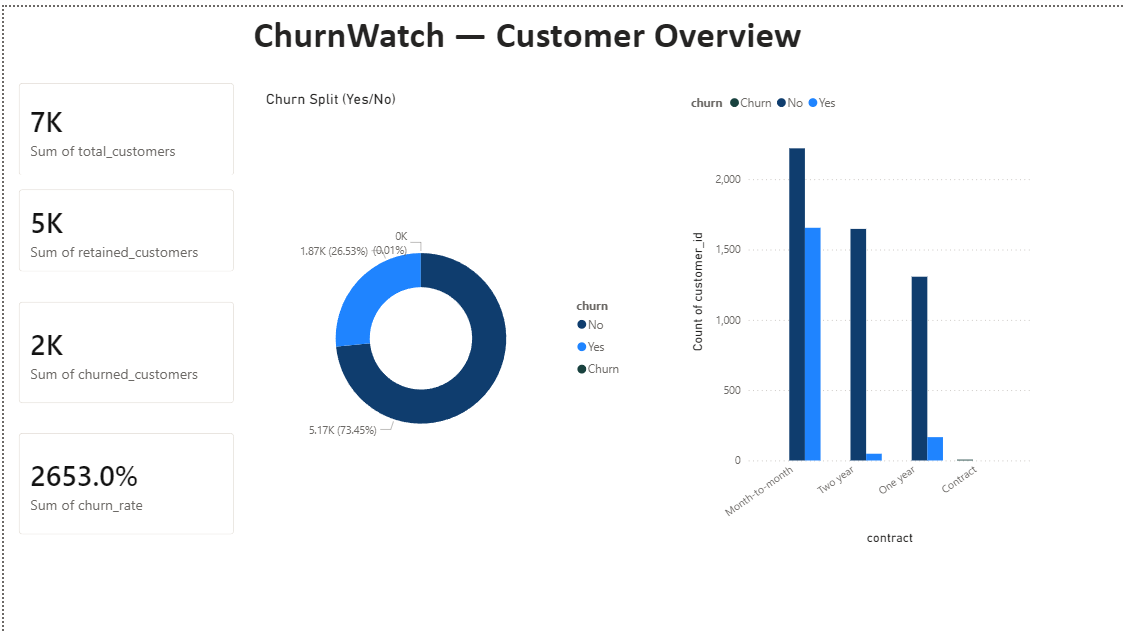

This screenshot's page, from the dashboard's own definition file:
{"tool":"powerbi","page":{"name":"Overview, Risk Analysis, Risk Drivers, Segmentation","canvas":[1280,720],"ordinal":0},"visuals":[{"type":"donutChart","title":"Churn Split (Yes/No)","fields":{"Category":["customers.churn"],"Y":["CountNonNull(customers.customer_id)"]},"box":[294.3,94.3,422.9,550],"z":0},{"type":"clusteredColumnChart","title":"Churn by Contract Type","fields":{"Category":["customers.contract"],"Y":["CountNonNull(customers.customer_id)"],"Series":["customers.churn"]},"box":[780,70,398.6,550],"z":1000},{"type":"cardVisual","fields":{"Data":["Sum(vw_churn_kpis.total_customers)"]},"box":[0,70,280,140],"z":2000},{"type":"cardVisual","fields":{"Data":["Sum(vw_churn_kpis.churned_customers)"]},"box":[0,320,280,150],"z":3000},{"type":"cardVisual","fields":{"Data":["Sum(vw_churn_kpis.retained_customers)"]},"box":[0,191.4,280,128.6],"z":4000},{"type":"cardVisual","fields":{"Data":["Sum(vw_churn_kpis.churn_rate)"]},"box":[0,470,280,150],"z":5000},{"type":"textbox","box":[280,0,744.3,94.3],"z":5001}]}

Visuals, with their boxes in screenshot pixels (x1, y1, x2, y2), scaled from the page's 1280x720 canvas onto the 1123x633 screenshot:
"Churn Split (Yes/No)" donutChart: pyautogui.locateOnScreen(258, 83, 629, 566)
"Churn by Contract Type" clusteredColumnChart: pyautogui.locateOnScreen(684, 62, 1034, 545)
cardVisual - Sum(vw_churn_kpis.total_customers): pyautogui.locateOnScreen(0, 62, 246, 185)
cardVisual - Sum(vw_churn_kpis.churned_customers): pyautogui.locateOnScreen(0, 281, 246, 413)
cardVisual - Sum(vw_churn_kpis.retained_customers): pyautogui.locateOnScreen(0, 168, 246, 281)
cardVisual - Sum(vw_churn_kpis.churn_rate): pyautogui.locateOnScreen(0, 413, 246, 545)
textbox: pyautogui.locateOnScreen(246, 0, 899, 83)
